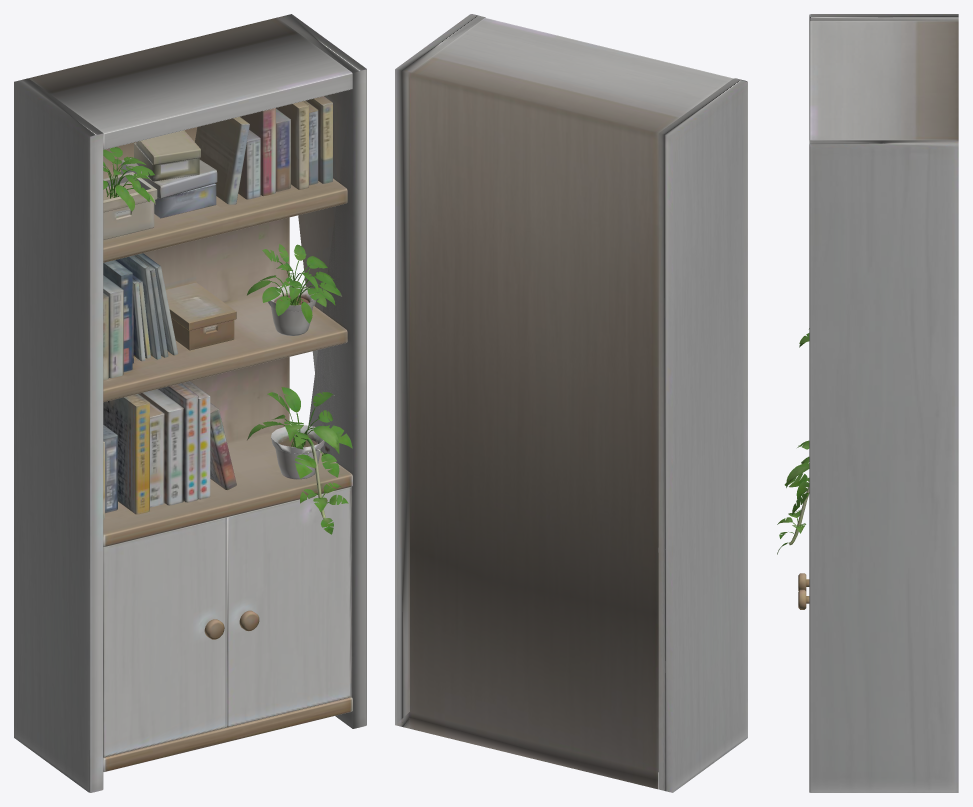
The model's file is bookcase.glb.
3 views of the same model, side by side, from view 1: azimuth 30°, elevation 25°; view 2: azimuth 150°, elevation 25°; view 3: azimuth 270°, elevation 25° (orthographic).
Parts seen in each view (by area): view 1: tripo_2f7b539d_503d_401a_8abb_0b80cc84fe33; view 2: tripo_2f7b539d_503d_401a_8abb_0b80cc84fe33; view 3: tripo_2f7b539d_503d_401a_8abb_0b80cc84fe33.
Part boxes in pixels (bbox=[...]): tripo_2f7b539d_503d_401a_8abb_0b80cc84fe33: bbox=[14, 14, 366, 792]; tripo_2f7b539d_503d_401a_8abb_0b80cc84fe33: bbox=[395, 14, 747, 792]; tripo_2f7b539d_503d_401a_8abb_0b80cc84fe33: bbox=[777, 14, 958, 792].
Bounding box in the file's own units: 0.4429 × 0.9995 × 0.2554.
1 material, 1 textured.
